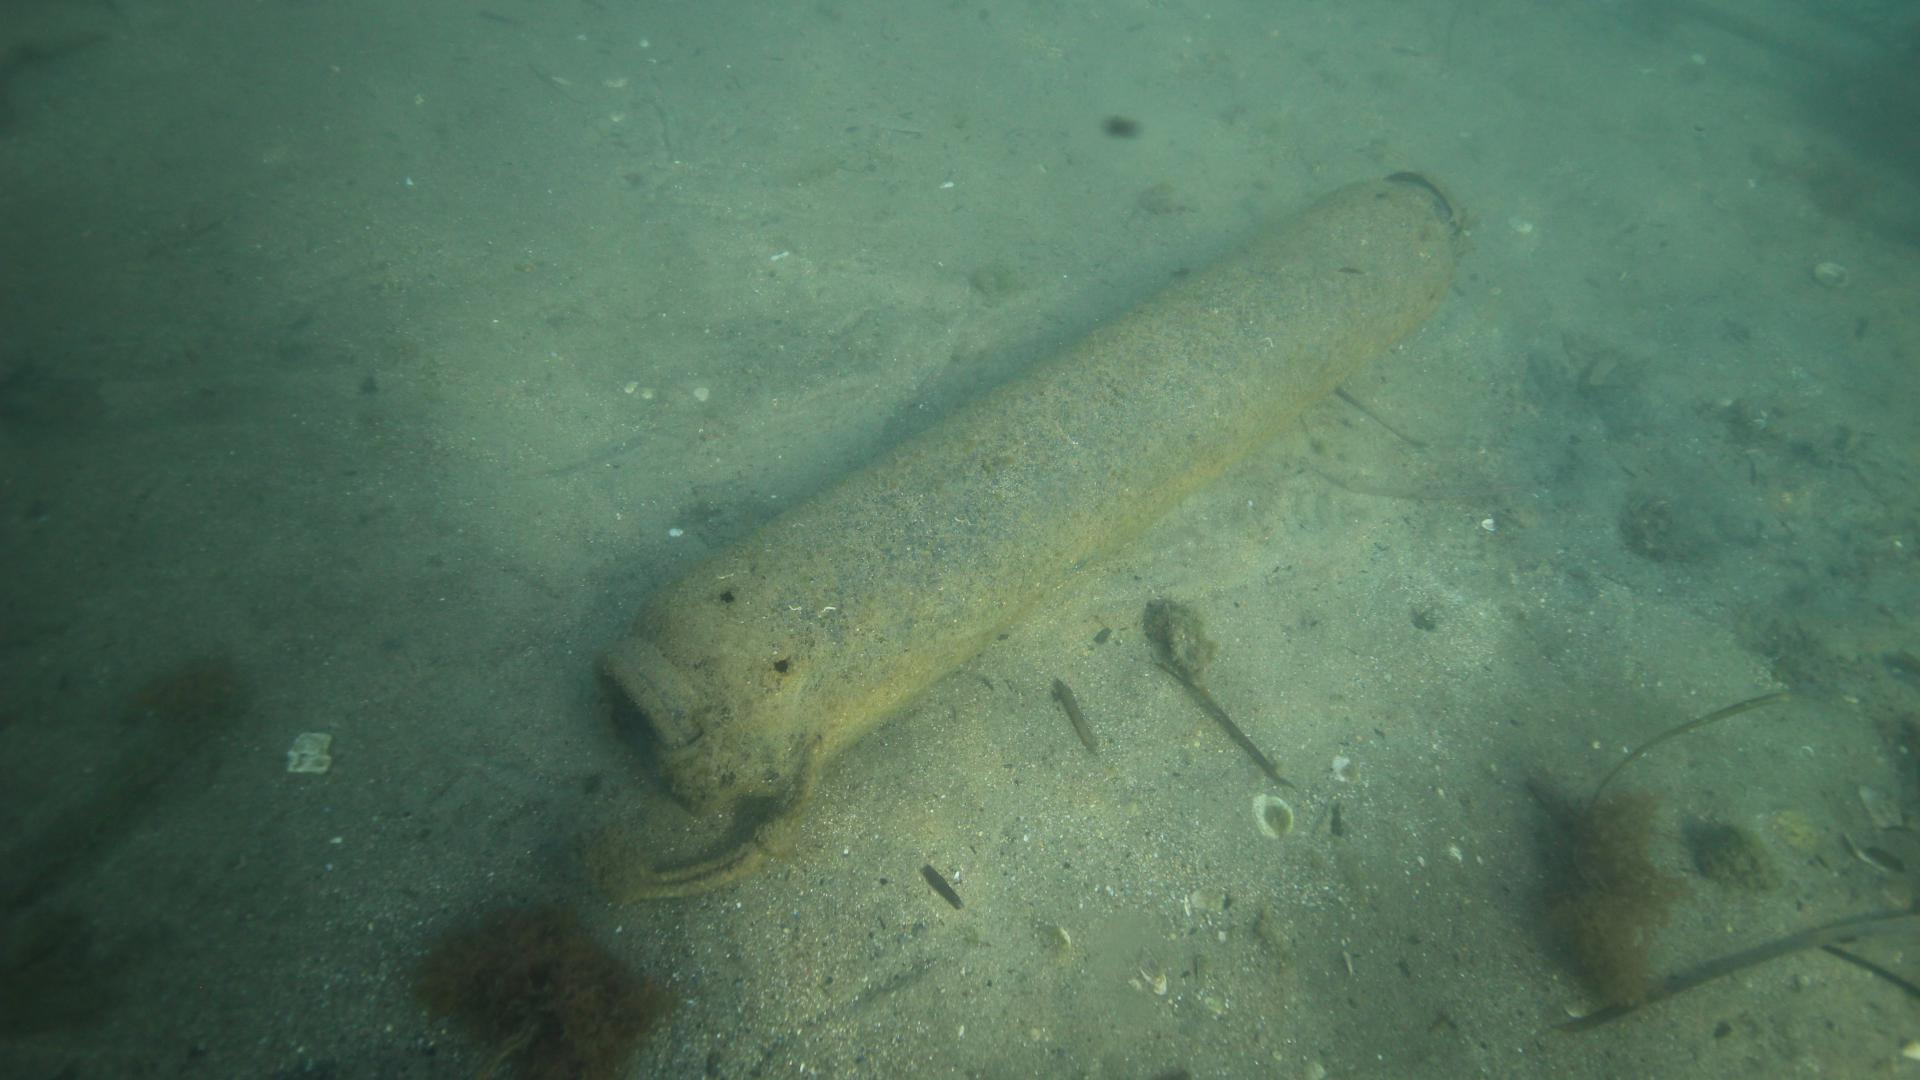bundle of ropes: (615, 745, 824, 901)
eel fish trap: (599, 171, 1469, 818)
